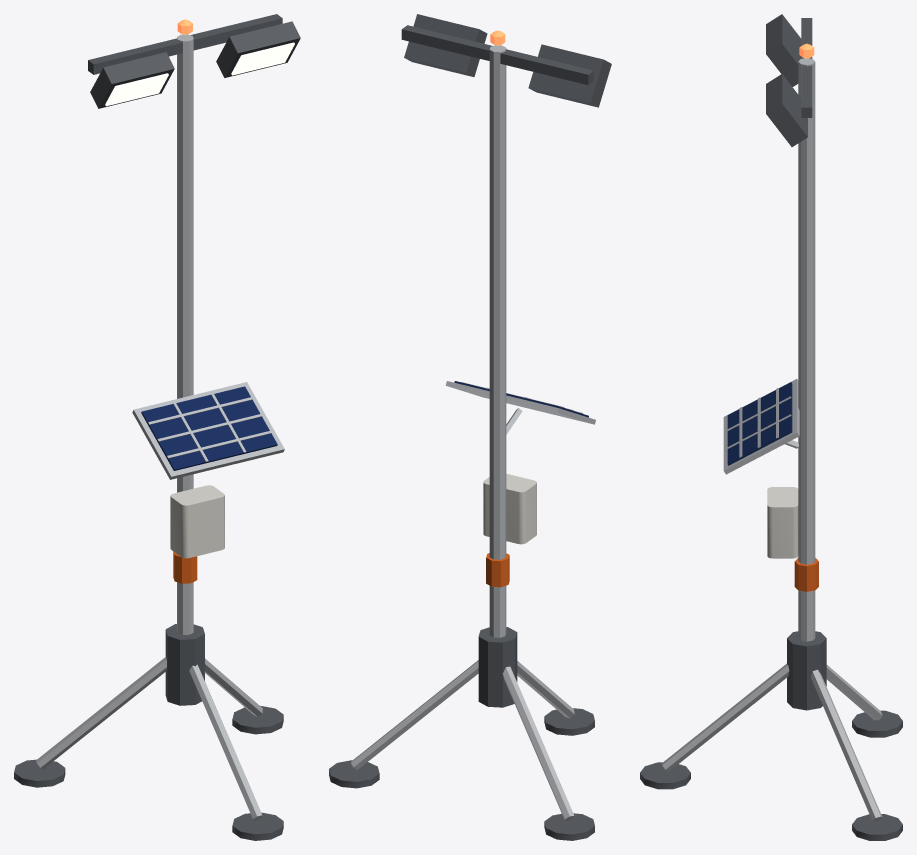
Rendered from light_mast.glb.
3 views of the same model, side by side, from view 1: azimuth 30°, elevation 25°; view 2: azimuth 150°, elevation 25°; view 3: azimuth 270°, elevation 25° (orthographic). The views are drawn at different scales.
Visible parts, largest first — view 1: body; view 2: body; view 3: body.
Boxes of the visible parts, <box> form: body: <box>14,14,300,840</box>; body: <box>329,14,611,840</box>; body: <box>640,14,902,840</box>.
Bounding box in the file's own units: 2.07 × 5.74 × 1.86.
